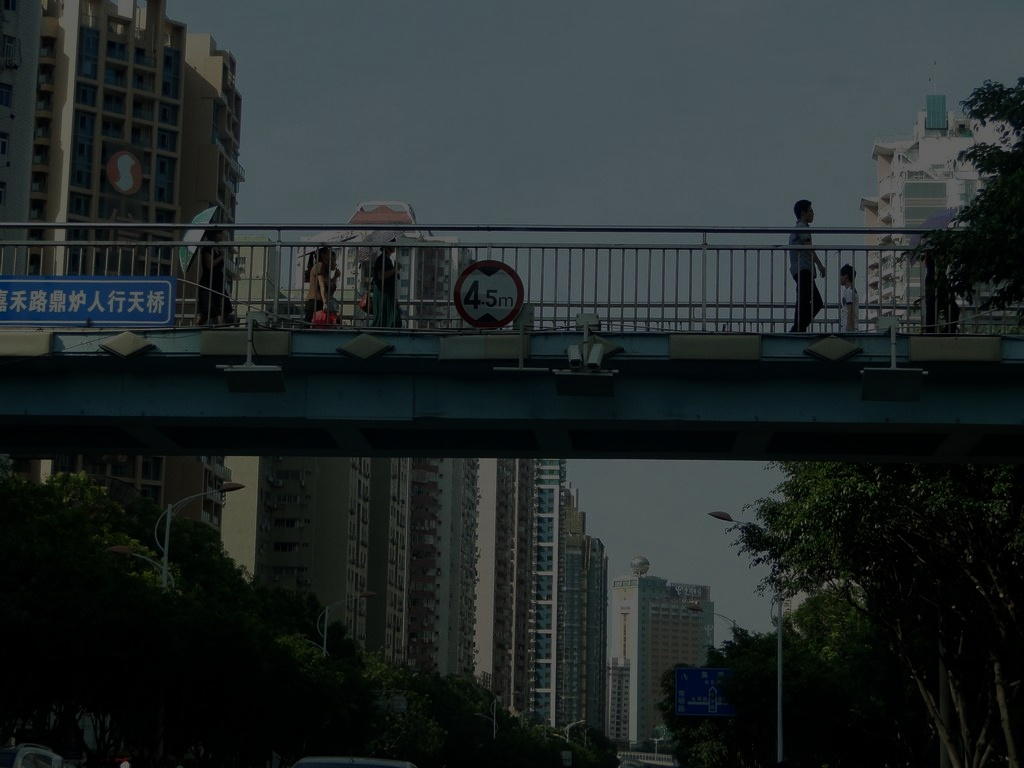Prohibitory Signs: (450, 258, 527, 332)
